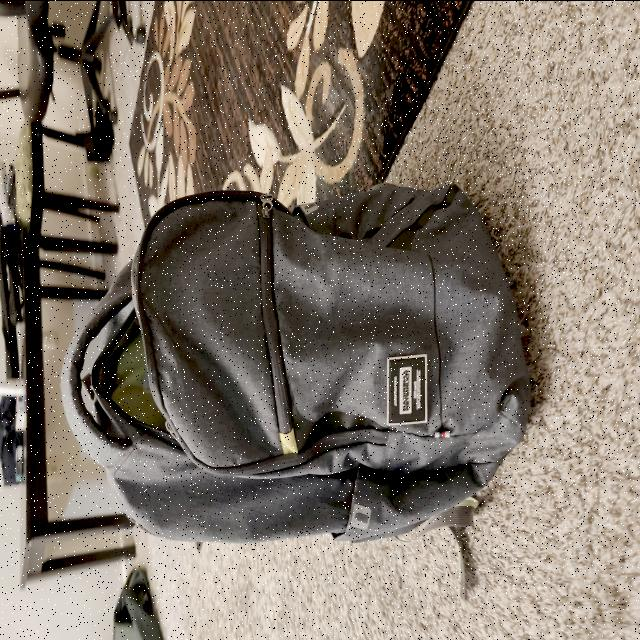bag: (59, 174, 517, 552)
